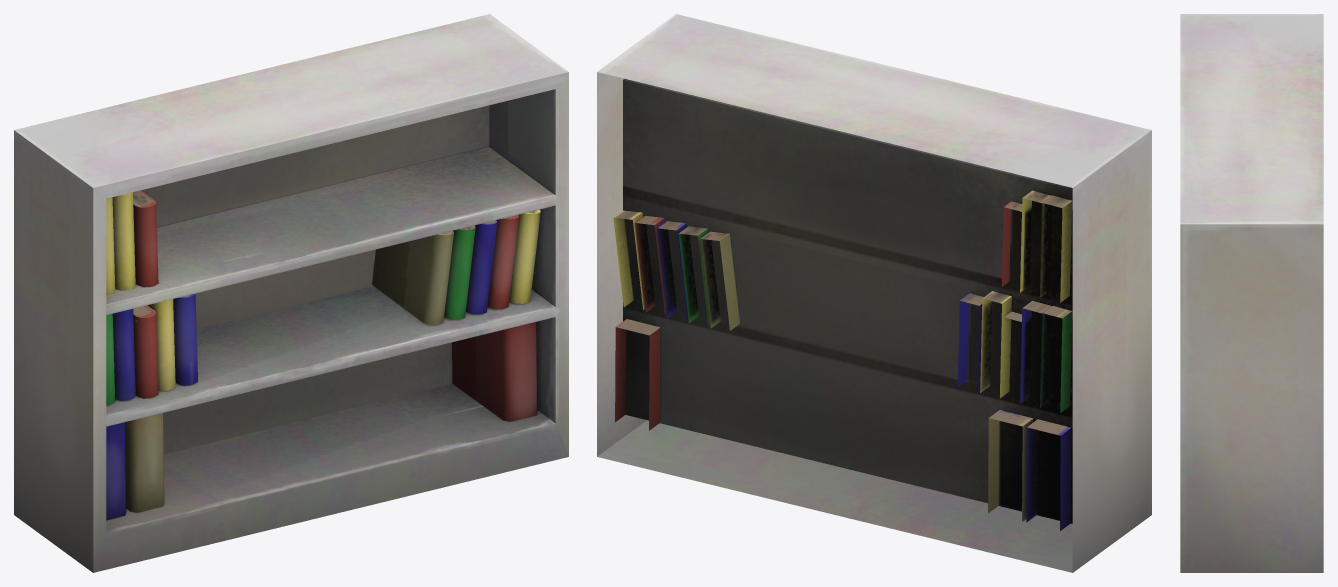
File: Shelves.fbx
3 views of the same model, side by side, from view 1: azimuth 30°, elevation 25°; view 2: azimuth 150°, elevation 25°; view 3: azimuth 270°, elevation 25° (orthographic). The views are drawn at different scales.
Visible parts, largest first — view 1: etagere.001|etagere_L_etagere.blend|Dupli|, etagere.001|etagere.001_L_etagere.blend|Dupli|1; view 2: etagere.001|etagere_L_etagere.blend|Dupli|, etagere.001|etagere.001_L_etagere.blend|Dupli|1; view 3: etagere.001|etagere_L_etagere.blend|Dupli|.
Part boxes in pixels (x1,y1,x2,y2): etagere.001|etagere_L_etagere.blend|Dupli|: (14,14,568,572); etagere.001|etagere.001_L_etagere.blend|Dupli|1: (106,190,540,520); etagere.001|etagere_L_etagere.blend|Dupli|: (597,14,1151,572); etagere.001|etagere.001_L_etagere.blend|Dupli|1: (613,190,1072,530); etagere.001|etagere_L_etagere.blend|Dupli|: (1180,14,1323,572).
Bounding box in the file's own units: 191 × 147 × 54.94.
